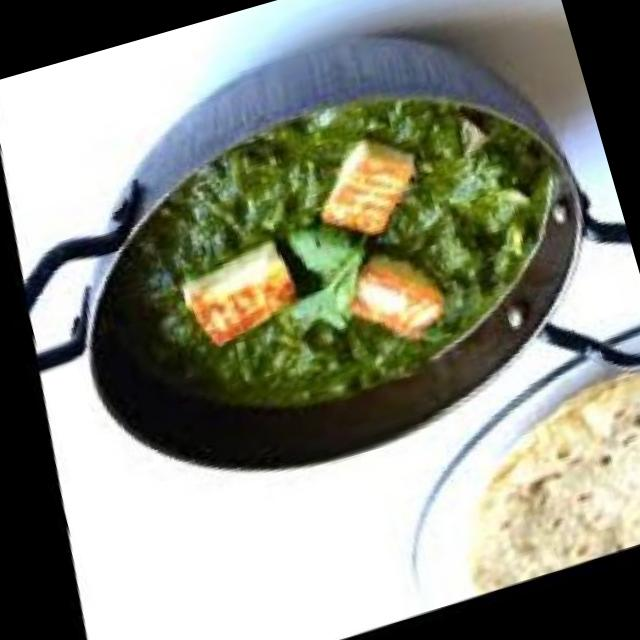palak_paneer: (57, 52, 596, 466)
